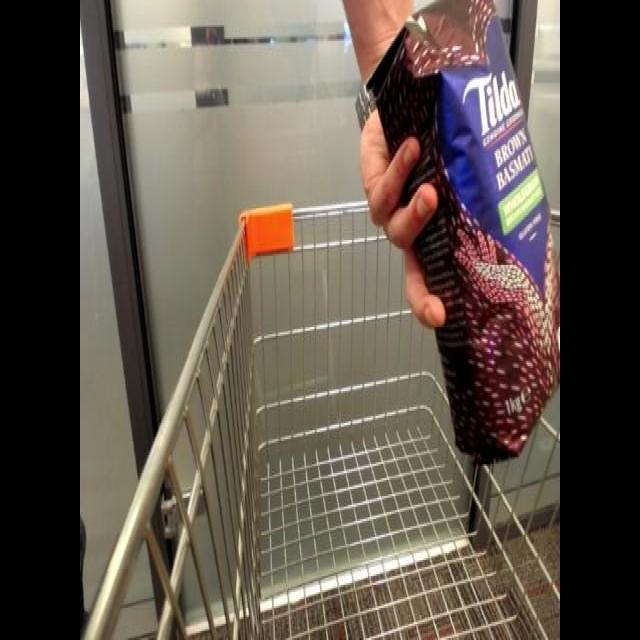Tida: (371, 4, 558, 471)
